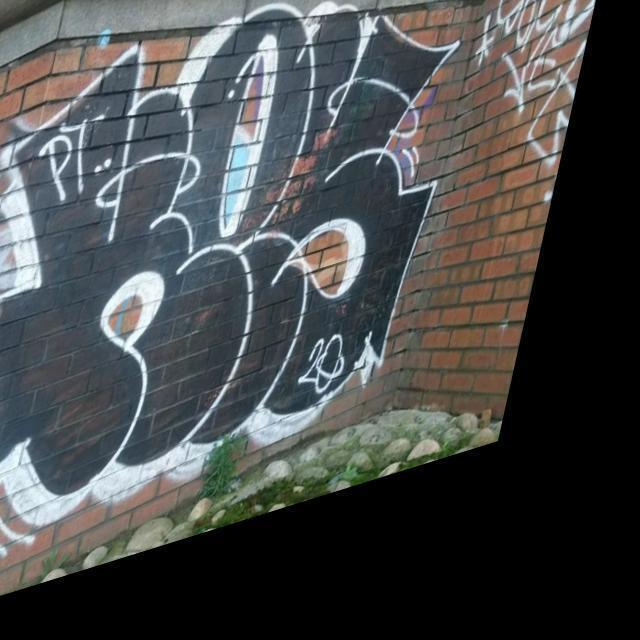nonspitting: (0, 0, 460, 560), (473, 0, 595, 202)
